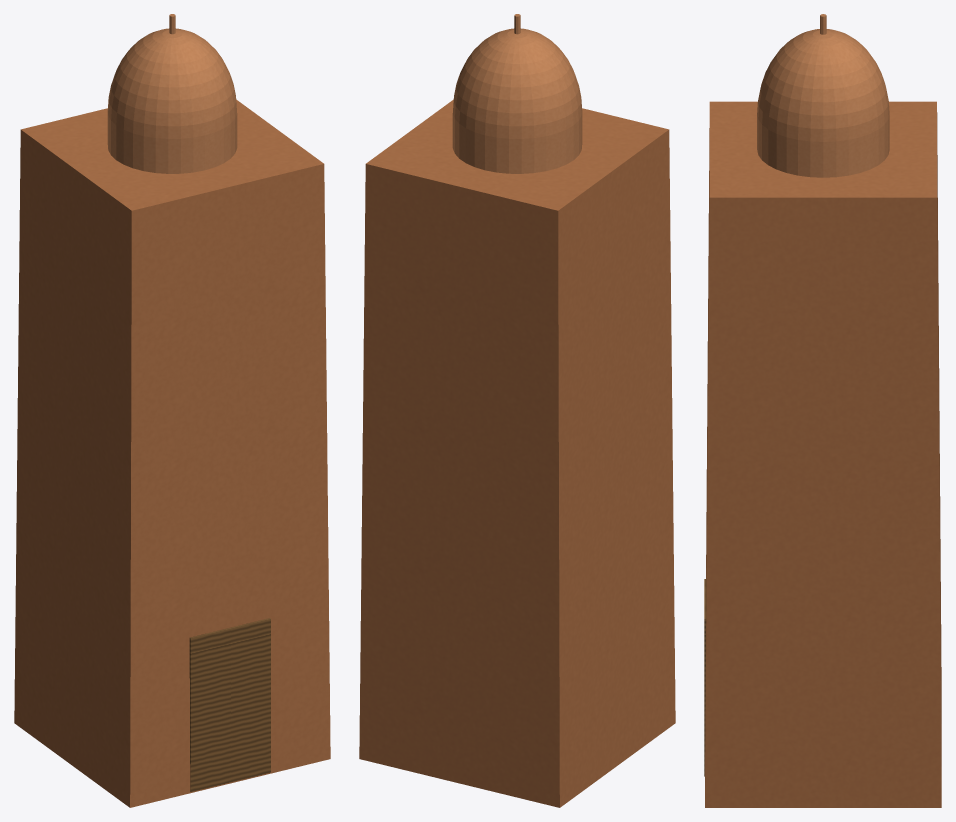
Rendered from SM_Souq_Warehouse_W3D30_Dome.fbx.
3 renders of one model, left to right at view 1: azimuth 30°, elevation 25°; view 2: azimuth 150°, elevation 25°; view 3: azimuth 270°, elevation 25°, orthographic. The views are drawn at different scales.
Visible parts, largest first — view 1: SM_Souq_Warehouse_W3D30_Dome; view 2: SM_Souq_Warehouse_W3D30_Dome; view 3: SM_Souq_Warehouse_W3D30_Dome.
Boxes of the visible parts, <box> form: SM_Souq_Warehouse_W3D30_Dome: <box>14,14,330,807</box>; SM_Souq_Warehouse_W3D30_Dome: <box>359,14,675,807</box>; SM_Souq_Warehouse_W3D30_Dome: <box>704,14,941,807</box>.
Size of the model in its own units: 3 by 10.38 by 3.01.
Materials: 3 (3 with a texture image).
